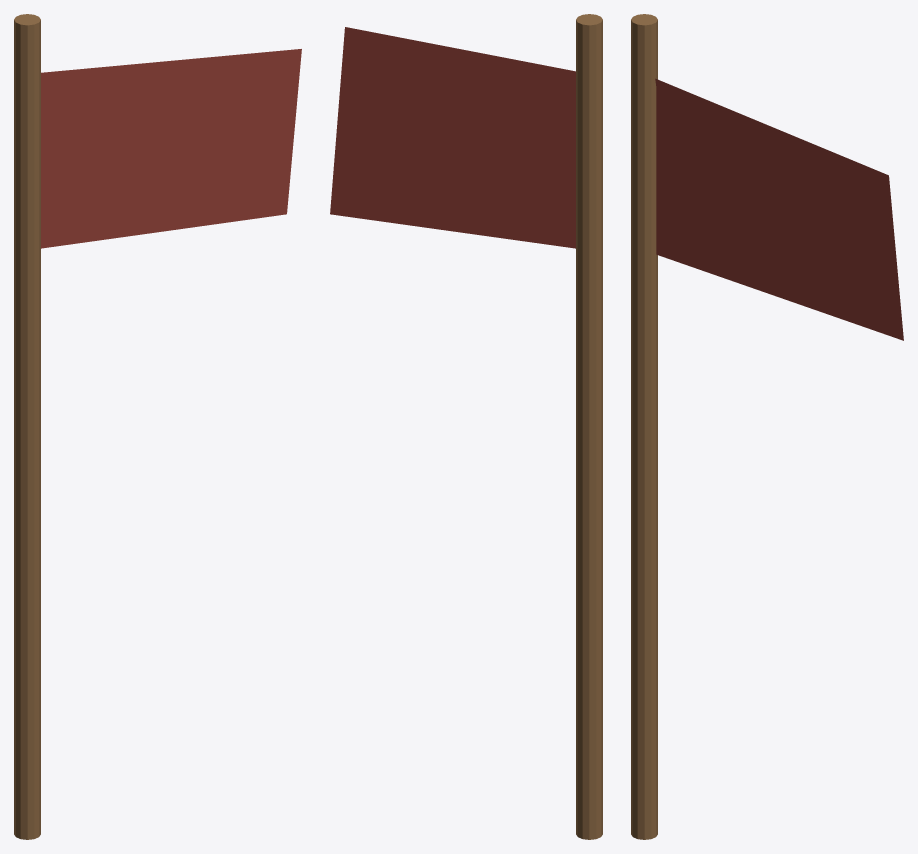
The model's file is equipment-flag.lod0.glb.
3 views of the same model, side by side, from view 1: azimuth 30°, elevation 25°; view 2: azimuth 150°, elevation 25°; view 3: azimuth 330°, elevation 25° (orthographic).
Visible parts, largest first — view 1: equipment-flag__flag, equipment-flag__body; view 2: equipment-flag__flag, equipment-flag__body; view 3: equipment-flag__flag, equipment-flag__body.
Part boxes in pixels (x1=…): equipment-flag__flag: x1=41, y1=49, x2=301, y2=248; equipment-flag__body: x1=14, y1=14, x2=40, y2=839; equipment-flag__flag: x1=330, y1=27, x2=575, y2=248; equipment-flag__body: x1=576, y1=14, x2=602, y2=839; equipment-flag__flag: x1=655, y1=78, x2=903, y2=340; equipment-flag__body: x1=631, y1=14, x2=657, y2=839.
Size of the model in its own units: 1.05 by 3 by 0.145.
